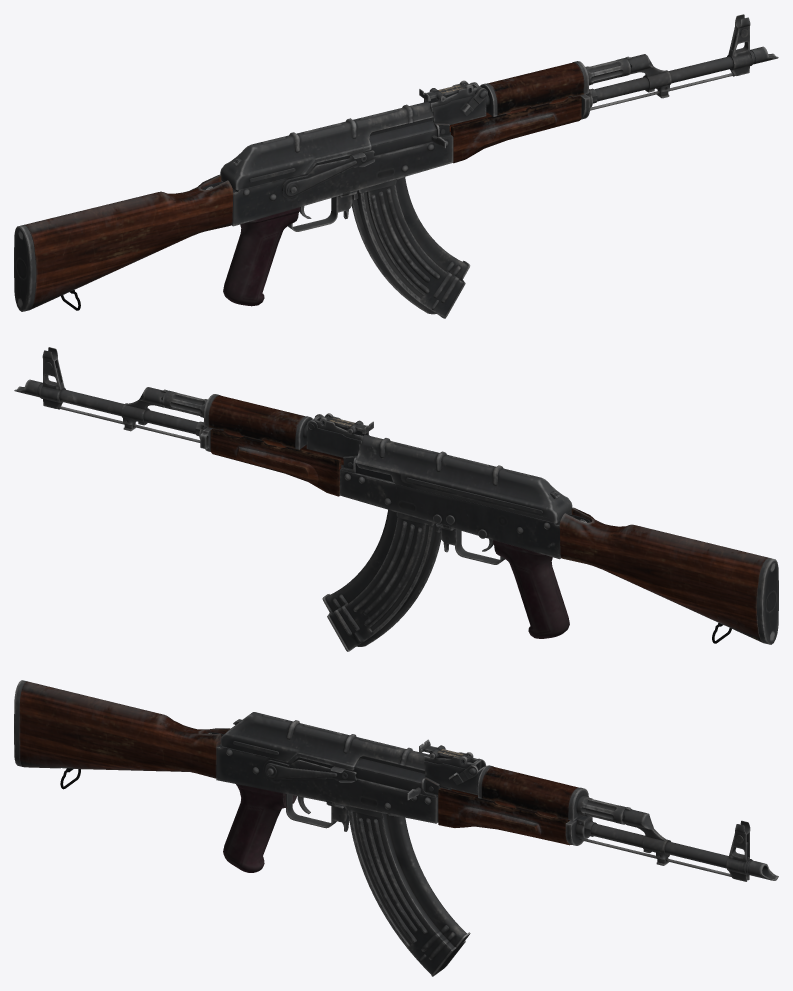
3 renders of one model, top to bottom at view 1: azimuth 30°, elevation 25°; view 2: azimuth 150°, elevation 25°; view 3: azimuth 330°, elevation 25°, orthographic.
Visible parts, largest first — view 1: l_stockWood_low, bm_magazine_low, u_dustcover_low, m_base_low, r_woodLower_low_Material #44_0, bl_grip_low, ur_woodUpper_low, l_stockMetal_low, u_dustcoverHolder_low, r_barrel_low, m_safetyswitch_low, r_numberBase_low (+4 smaller); view 2: l_stockWood_low, u_dustcover_low, bm_magazine_low, m_base_low, r_woodLower_low_Material #44_0, bl_grip_low, ur_woodUpper_low, l_stockMetal_low, r_barrel_low, r_numberBase_low, r_barrelAim_low, r_Connector_low (+2 smaller); view 3: l_stockWood_low, bm_magazine_low, u_dustcover_low, m_base_low, r_woodLower_low_Material #44_0, bl_grip_low, ur_woodUpper_low, u_dustcoverHolder_low, r_barrel_low, m_safetyswitch_low, r_numberBase_low, r_Connector_low (+5 smaller).
Part boxes in pixels (x1=…): l_stockWood_low: x1=24, y1=174, x2=233, y2=309; bm_magazine_low: x1=351, y1=177, x2=467, y2=317; u_dustcover_low: x1=220, y1=101, x2=433, y2=190; m_base_low: x1=221, y1=132, x2=453, y2=226; r_woodLower_low_Material #44_0: x1=449, y1=96, x2=581, y2=163; bl_grip_low: x1=223, y1=207, x2=300, y2=306; ur_woodUpper_low: x1=487, y1=62, x2=584, y2=115; l_stockMetal_low: x1=14, y1=225, x2=35, y2=311; u_dustcoverHolder_low: x1=311, y1=118, x2=436, y2=170; r_barrel_low: x1=594, y1=56, x2=733, y2=101; m_safetyswitch_low: x1=281, y1=150, x2=375, y2=198; r_numberBase_low: x1=431, y1=82, x2=486, y2=124; l_stockWood_low: x1=559, y1=507, x2=768, y2=642; u_dustcover_low: x1=355, y1=434, x2=572, y2=523; bm_magazine_low: x1=325, y1=509, x2=441, y2=649; m_base_low: x1=339, y1=464, x2=571, y2=559; r_woodLower_low_Material #44_0: x1=210, y1=428, x2=343, y2=496; bl_grip_low: x1=492, y1=540, x2=569, y2=638; ur_woodUpper_low: x1=208, y1=395, x2=305, y2=448; l_stockMetal_low: x1=757, y1=558, x2=778, y2=644; r_barrel_low: x1=59, y1=389, x2=198, y2=434; r_numberBase_low: x1=306, y1=415, x2=369, y2=457; r_barrelAim_low: x1=41, y1=347, x2=65, y2=408; r_Connector_low: x1=121, y1=387, x2=167, y2=423; l_stockWood_low: x1=19, y1=681, x2=230, y2=778; bm_magazine_low: x1=347, y1=810, x2=466, y2=974; u_dustcover_low: x1=220, y1=712, x2=429, y2=770; m_base_low: x1=216, y1=744, x2=451, y2=823; r_woodLower_low_Material #44_0: x1=438, y1=788, x2=571, y2=845; bl_grip_low: x1=223, y1=784, x2=296, y2=872; ur_woodUpper_low: x1=481, y1=766, x2=578, y2=819; u_dustcoverHolder_low: x1=293, y1=756, x2=425, y2=793; r_barrel_low: x1=591, y1=823, x2=728, y2=868; m_safetyswitch_low: x1=263, y1=759, x2=357, y2=782; r_numberBase_low: x1=423, y1=758, x2=486, y2=795; r_Connector_low: x1=622, y1=807, x2=670, y2=854.
Bounding box in the file's own units: 1.92 × 0.5479 × 0.1356.
Materials: 1 (1 with a texture image).
